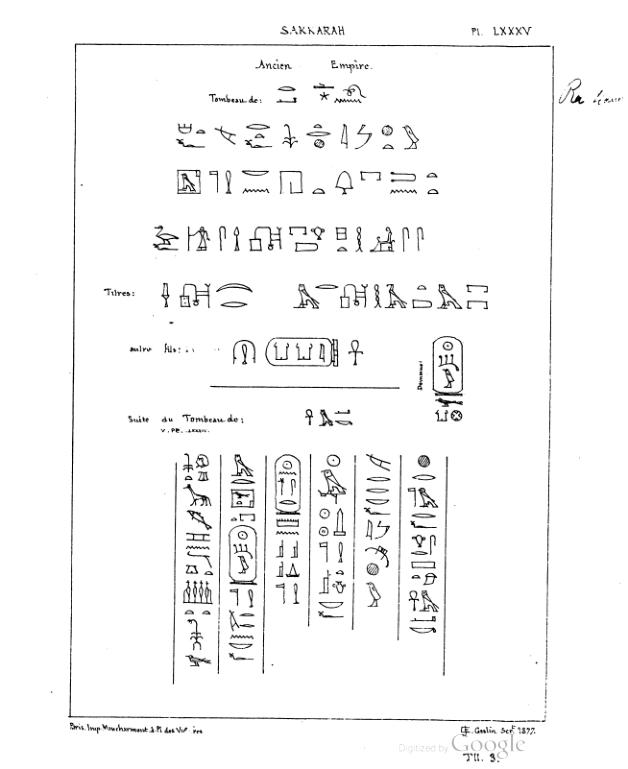circle: (262, 335, 346, 368), (429, 332, 467, 398), (272, 449, 305, 518), (227, 524, 260, 587)
